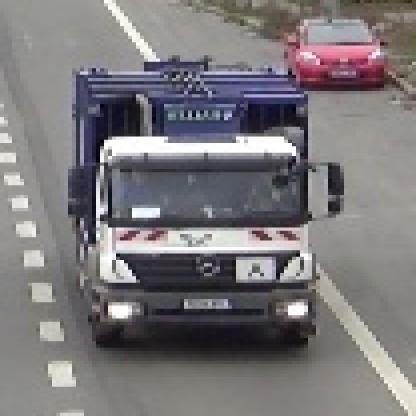truck: (61, 53, 341, 349)
